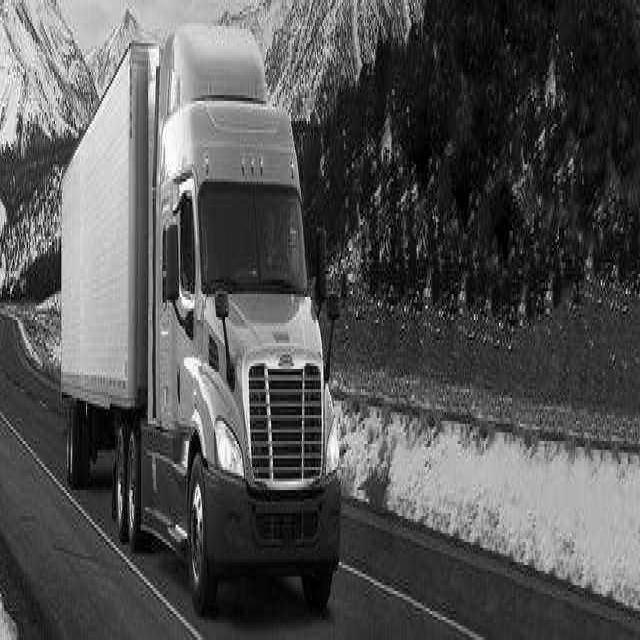Truck: (60, 32, 340, 614)
